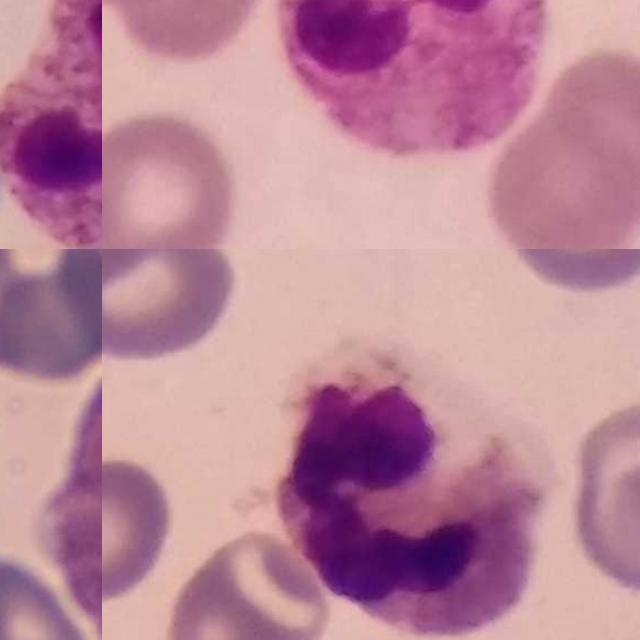Lymphocyte: (40, 355, 102, 640)
Neutrophil: (270, 343, 539, 637), (274, 0, 544, 157), (0, 0, 102, 249)
